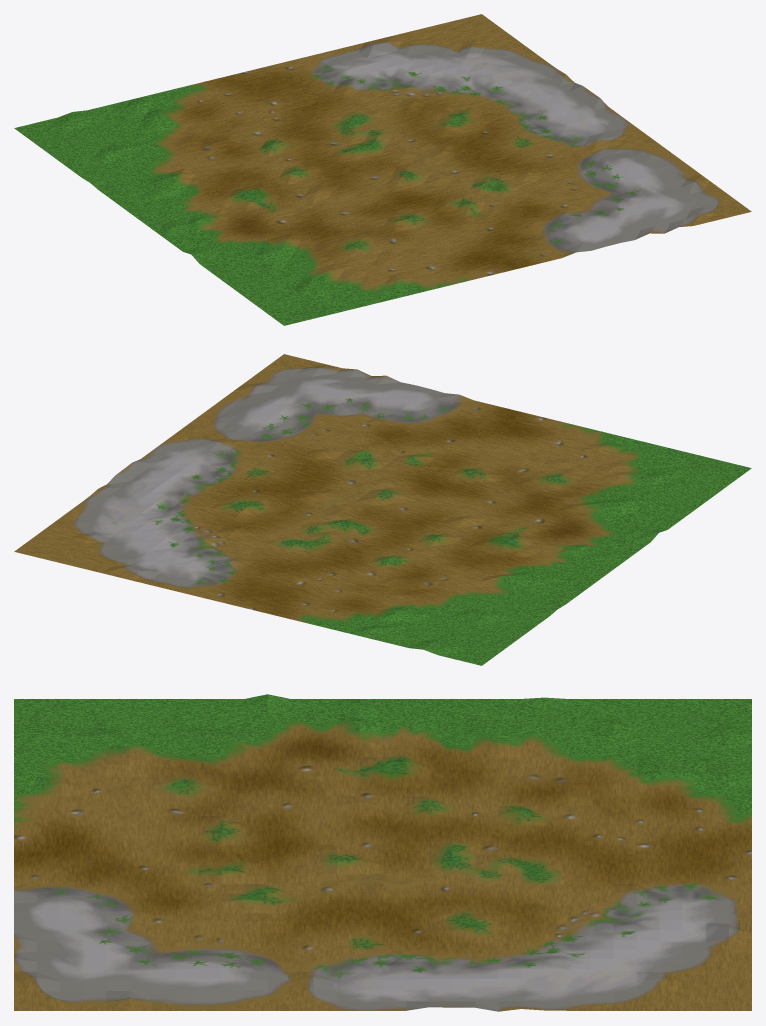
Rendered from Ter2.glb.
The picture shows the model from 3 angles, top to bottom: view 1: azimuth 30°, elevation 25°; view 2: azimuth 150°, elevation 25°; view 3: azimuth 270°, elevation 25°; orthographic projection. The views are drawn at different scales.
Parts seen in each view (by area): view 1: Ter2; view 2: Ter2; view 3: Ter2.
Boxes of the visible parts, left/top/right/bottom form: Ter2: left=14, top=14, right=751, bottom=325; Ter2: left=14, top=354, right=751, bottom=665; Ter2: left=14, top=694, right=751, bottom=1011.
Size of the model in its own units: 484 by 4.57 by 484.
1 material, 1 textured.
